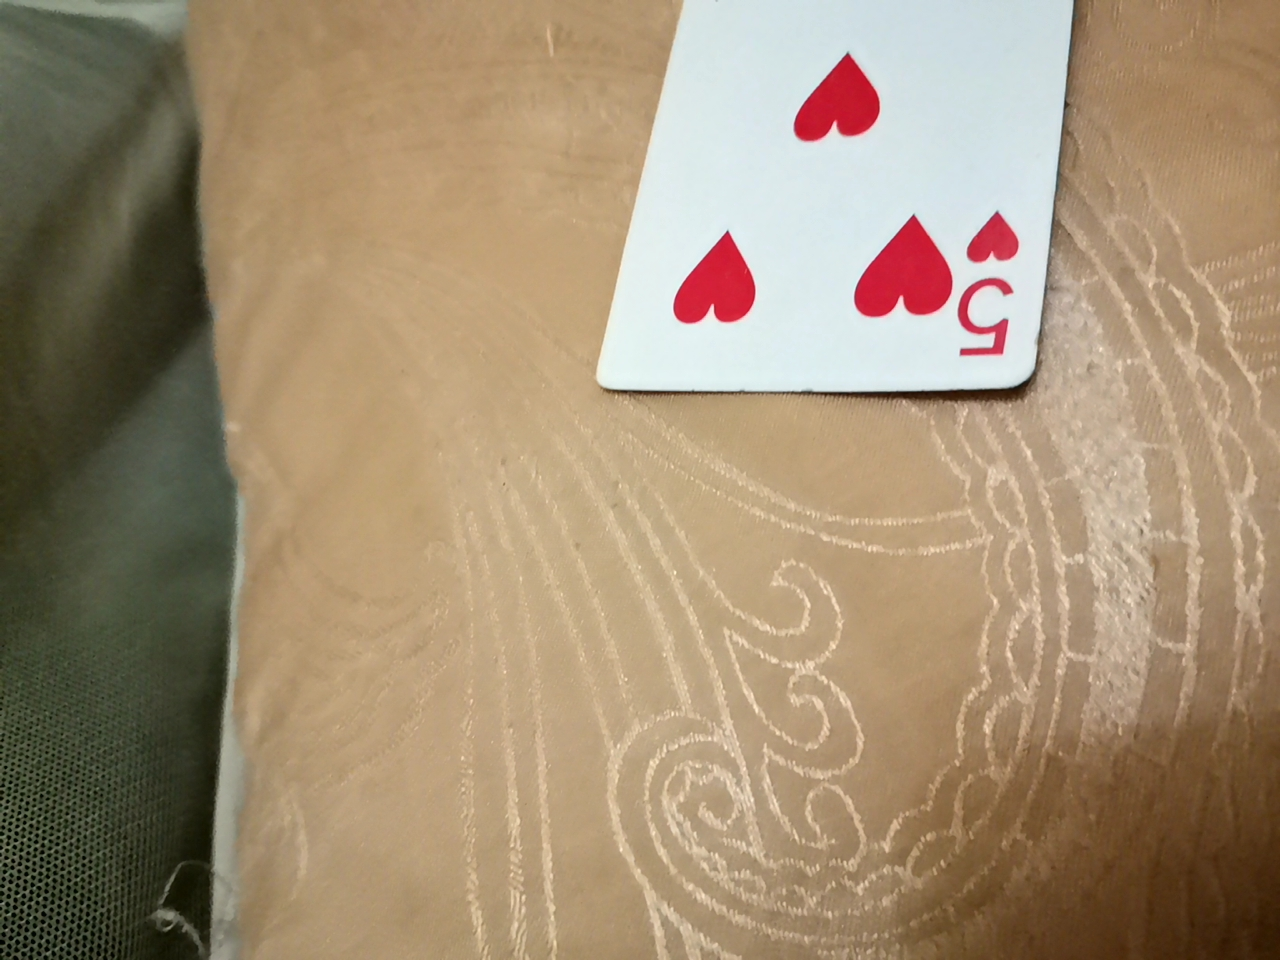hx 5: (586, 3, 1068, 419)
